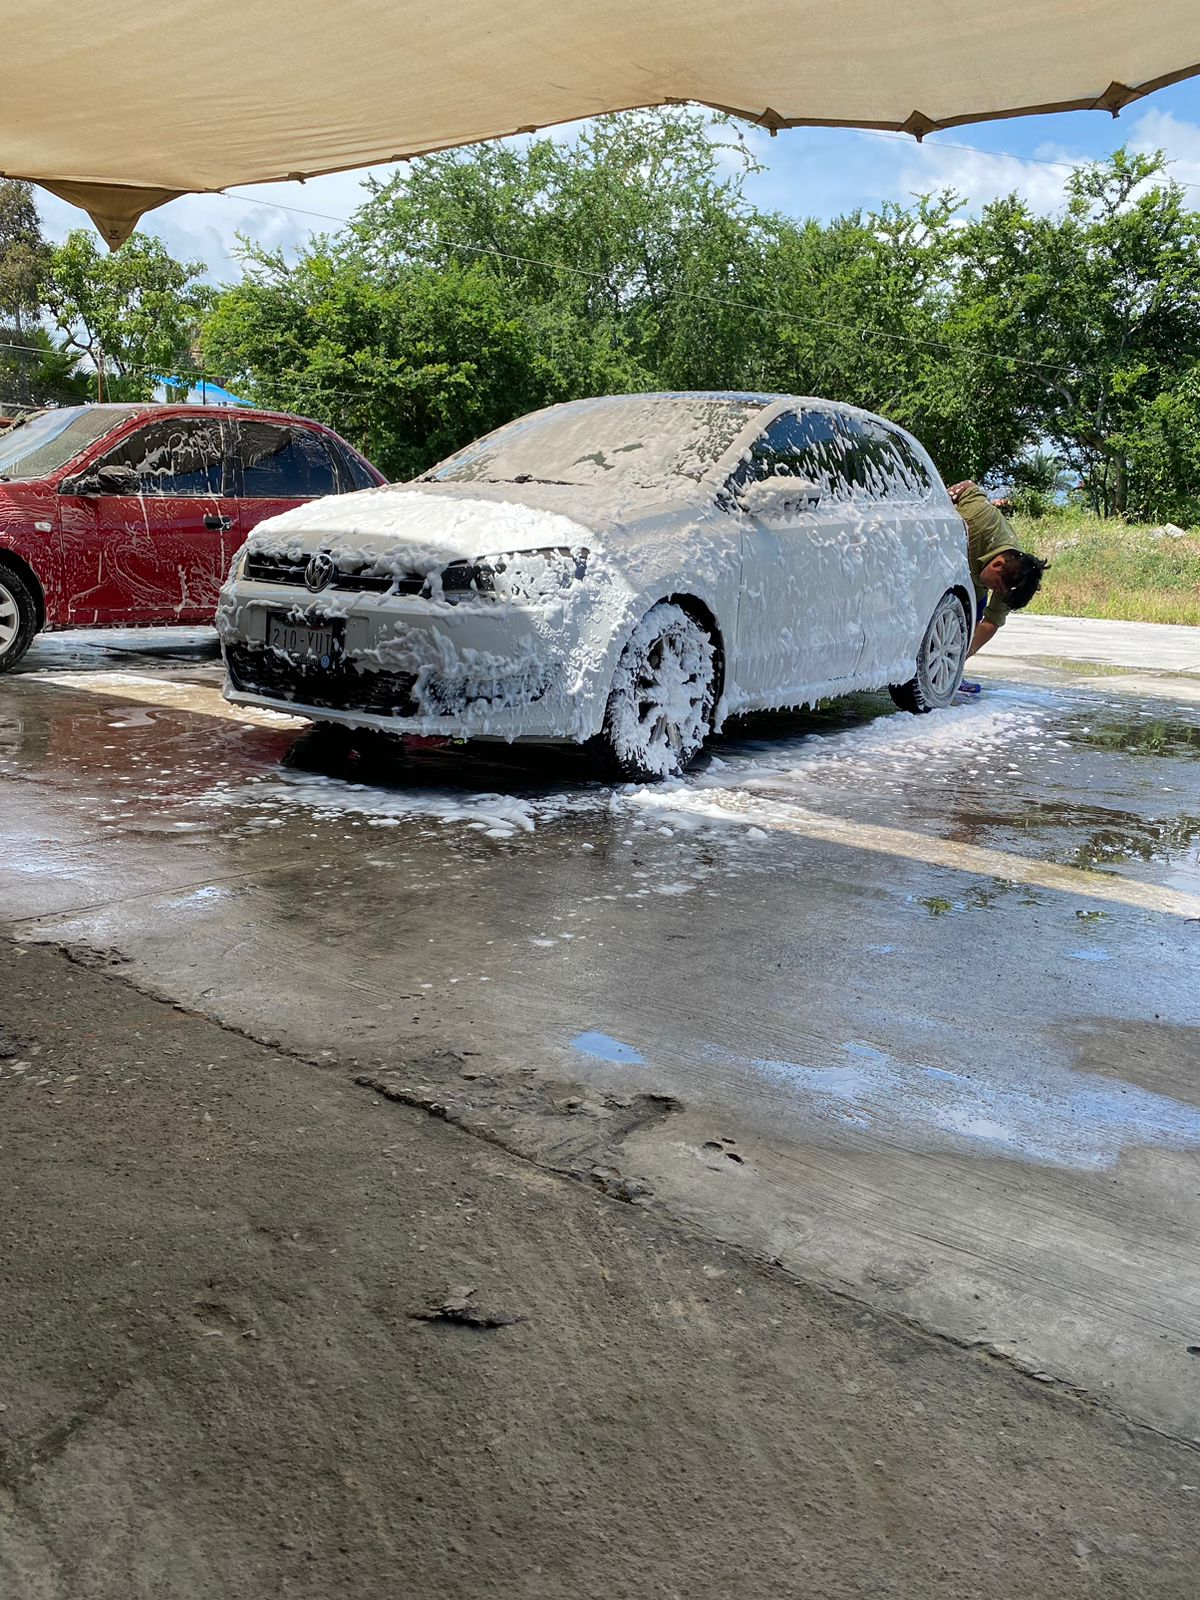Auto: (212, 388, 978, 787), (1, 404, 398, 674)
